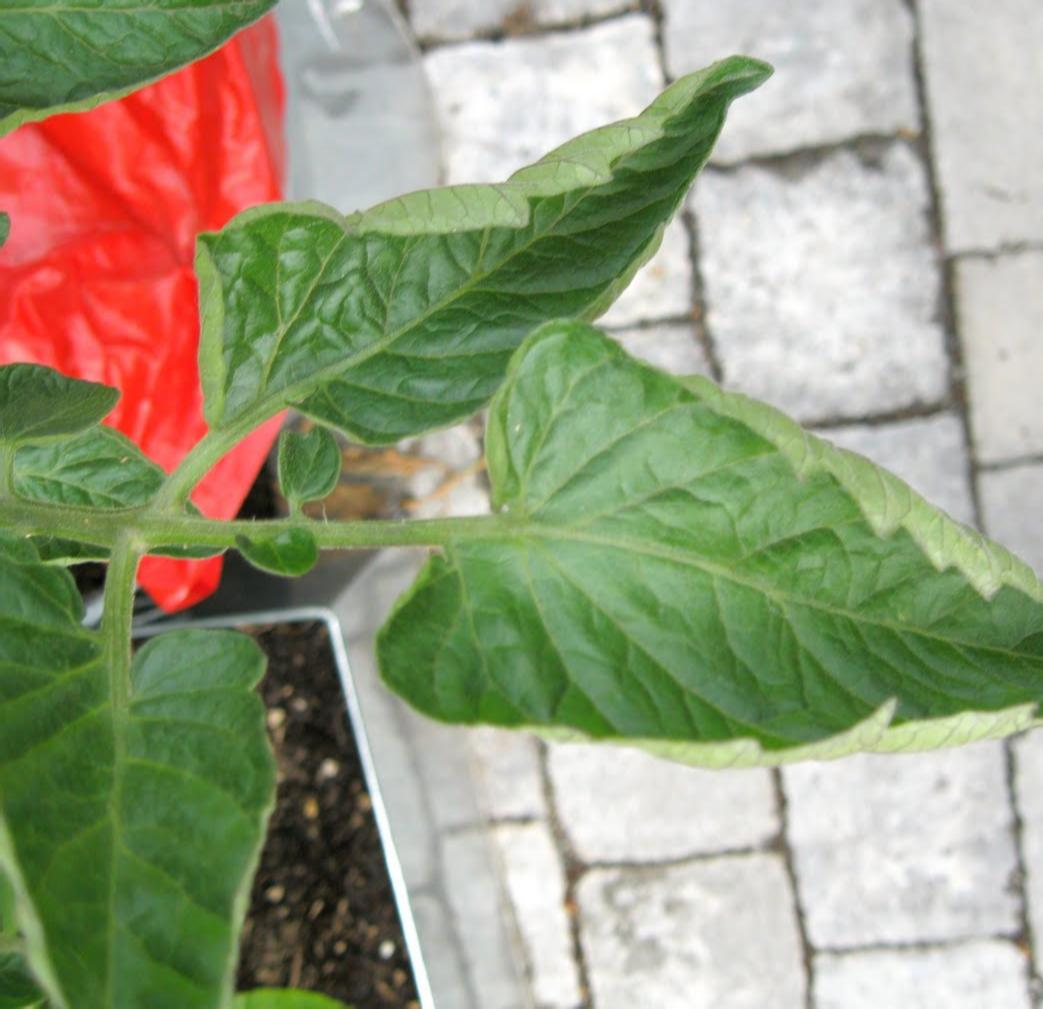Tomato leaf: (373, 319, 1043, 755), (173, 4, 779, 461), (0, 542, 284, 1009)
